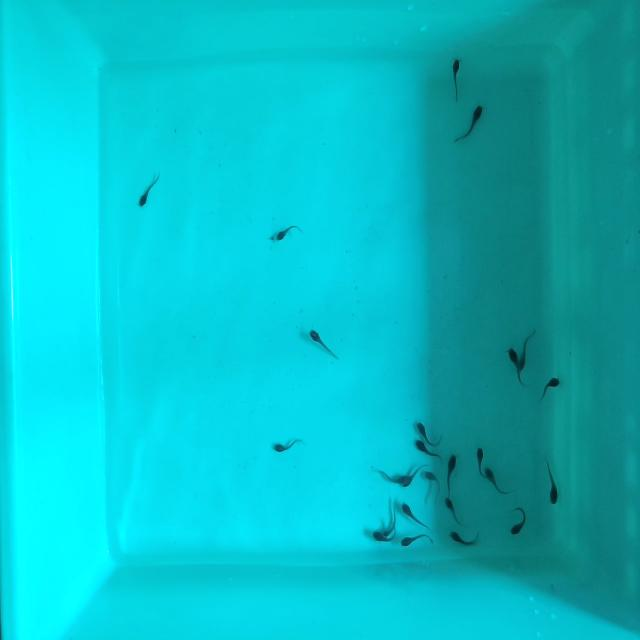lele: (454, 100, 487, 148), (306, 325, 340, 362), (135, 170, 166, 209), (482, 463, 513, 500), (506, 344, 527, 389), (517, 326, 537, 373), (400, 499, 429, 531), (413, 438, 444, 465), (443, 494, 464, 530), (402, 460, 428, 489), (415, 419, 439, 450), (273, 219, 302, 244), (380, 509, 404, 539), (545, 458, 559, 507), (538, 372, 561, 401), (445, 452, 458, 498), (448, 529, 476, 550), (507, 510, 529, 536), (273, 436, 303, 455), (424, 466, 443, 496), (377, 469, 410, 483), (451, 57, 461, 103), (400, 534, 433, 547), (476, 443, 486, 481), (372, 531, 395, 542)
